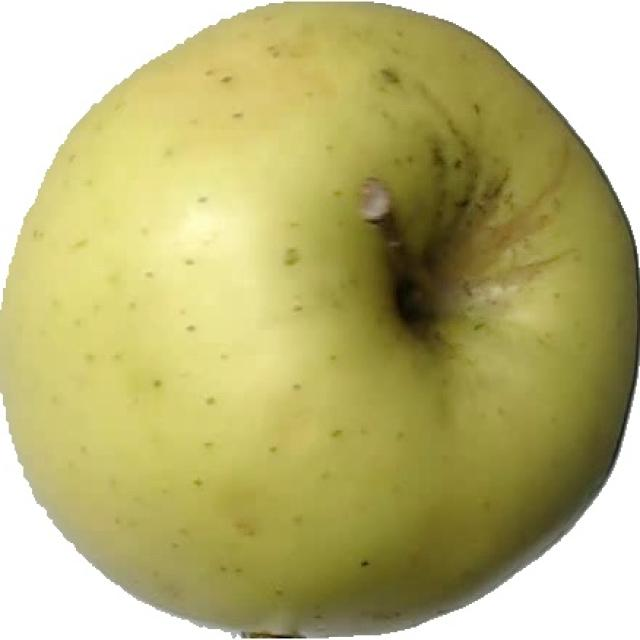Golden Elma: (1, 8, 640, 640)
